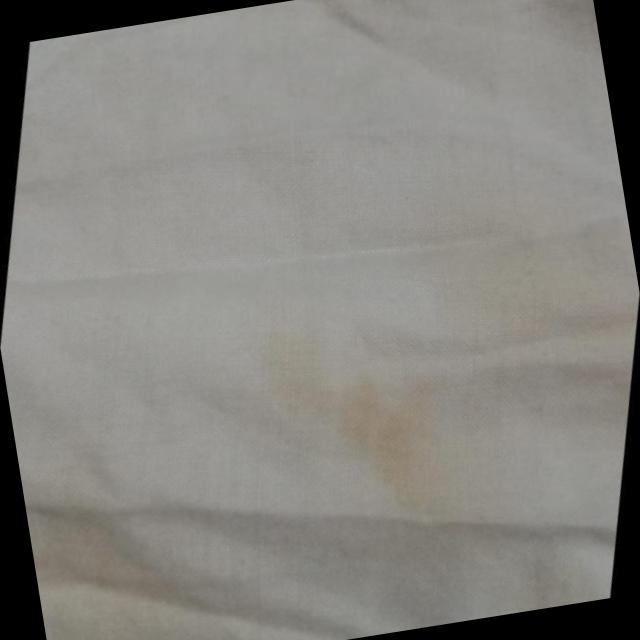stain: (383, 166, 640, 404), (242, 329, 516, 538)
